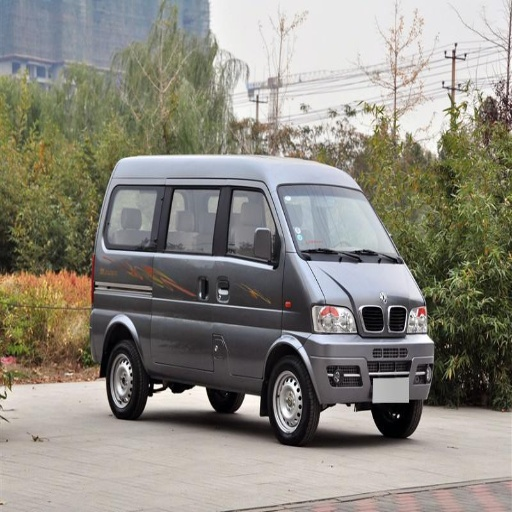front_bumper: (308, 307, 434, 407)
front_right_door: (213, 183, 284, 326)
front_right_light: (315, 304, 354, 335)
trunk: (183, 318, 276, 377), (92, 284, 149, 348)
